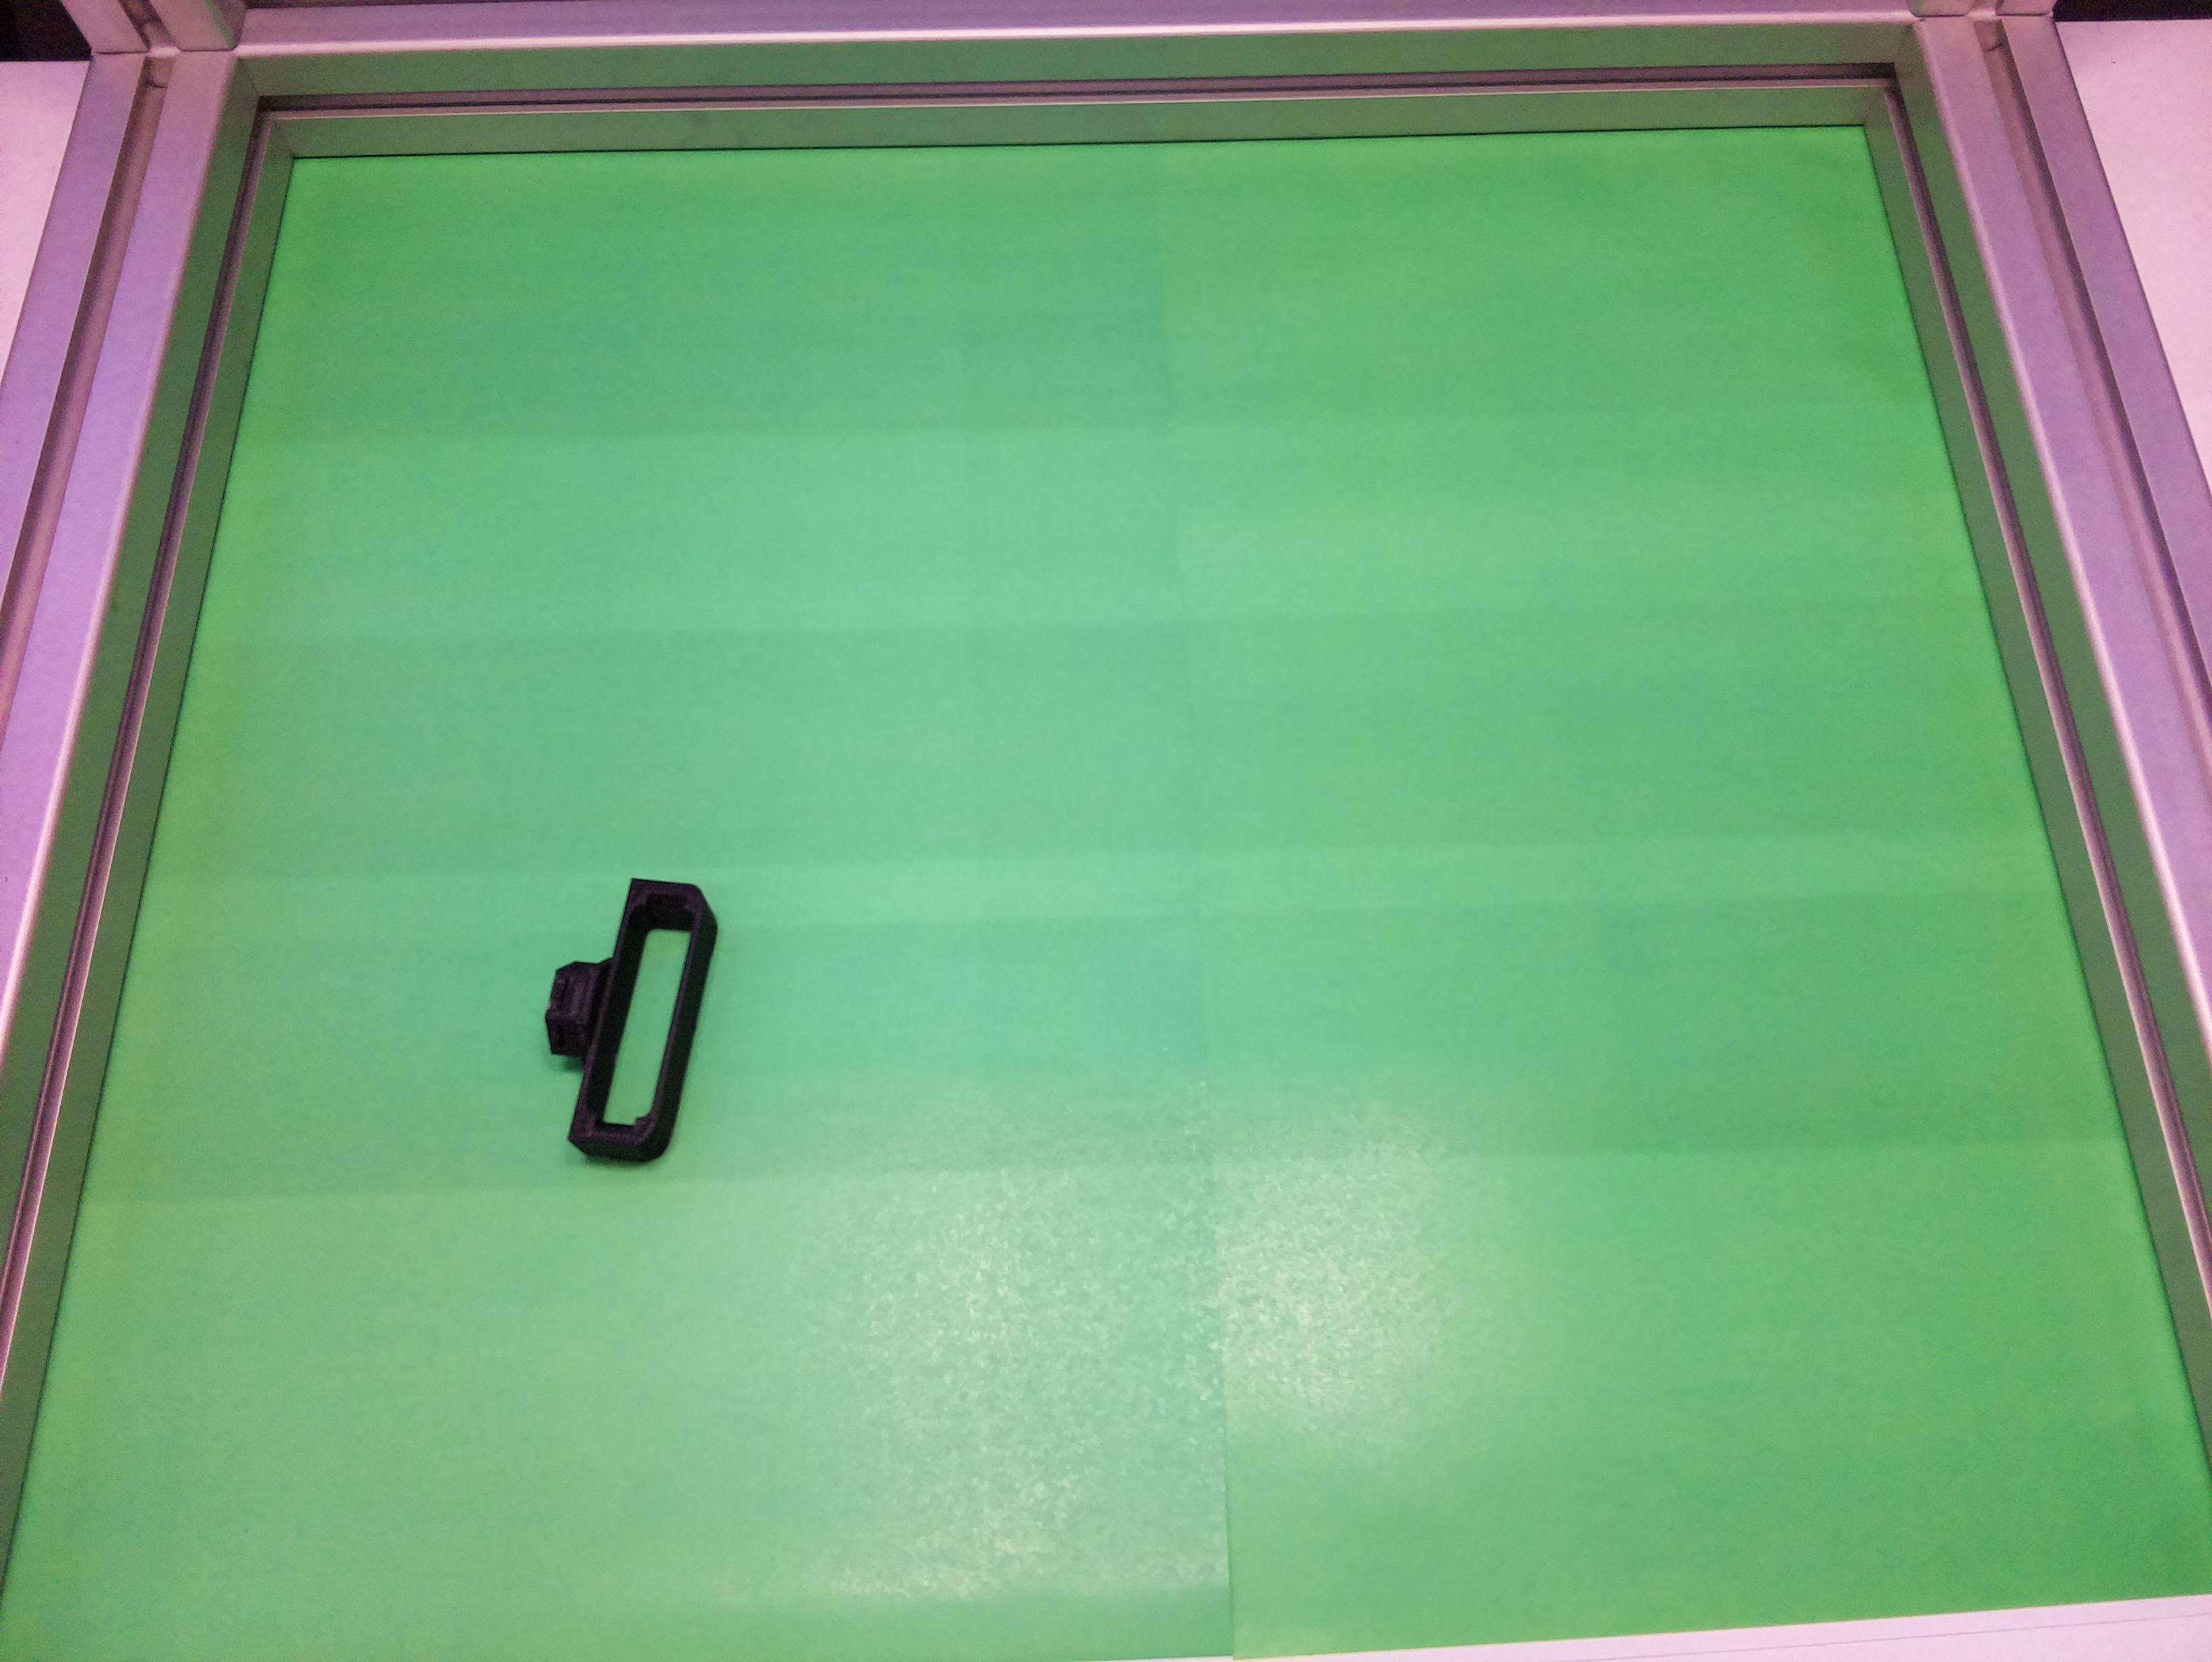cutter_holder: (517, 861, 726, 1173)
